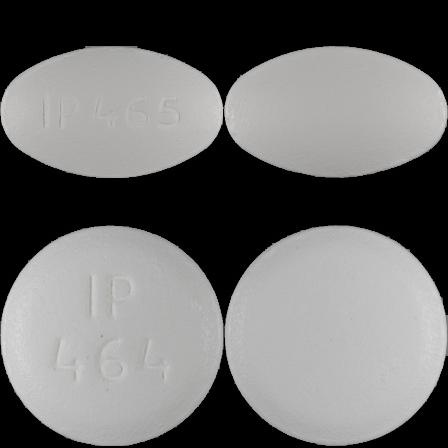61919-124: (0, 0, 224, 224)
